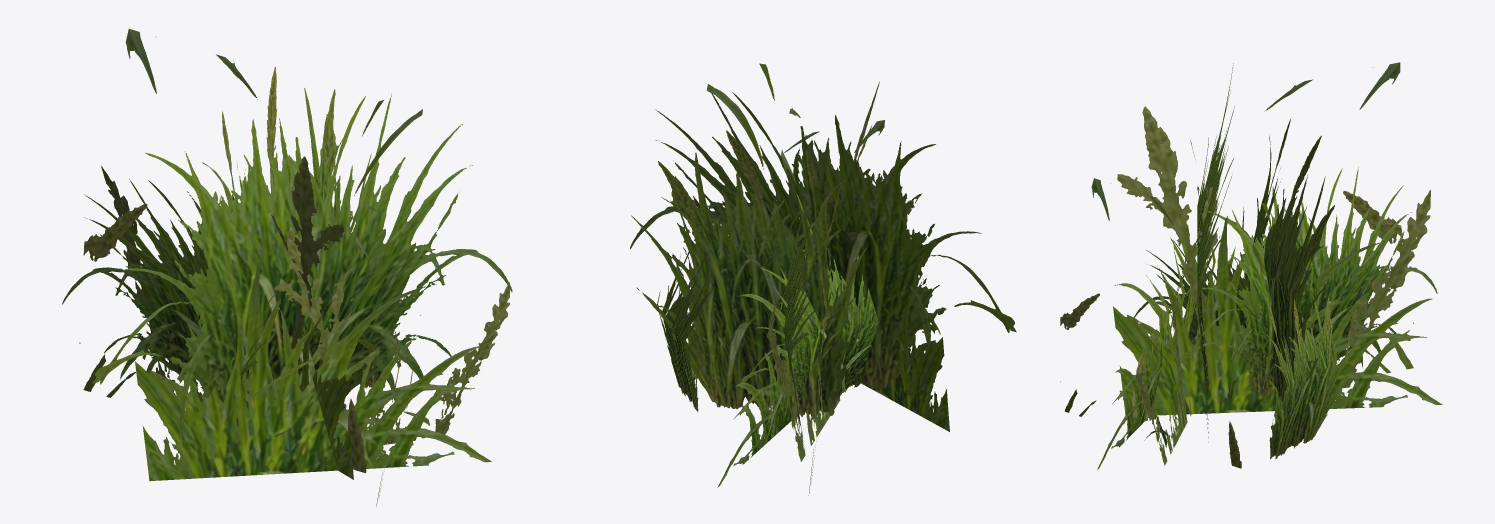
Rendered from grass_2.fbx.
3 renders of one model, left to right at view 1: azimuth 30°, elevation 25°; view 2: azimuth 150°, elevation 25°; view 3: azimuth 270°, elevation 25°, orthographic. The views are drawn at different scales.
Visible parts, largest first — view 1: grass_2; view 2: grass_2; view 3: grass_2.
Boxes of the visible parts, left/top/right/bottom form: grass_2: left=62, top=29, right=512, bottom=505; grass_2: left=630, top=63, right=1016, bottom=495; grass_2: left=1060, top=62, right=1442, bottom=469.
Size of what is drawn, in the model's own units: 1.26 by 0.8836 by 1.04.
Materials: 1 (1 with a texture image).
